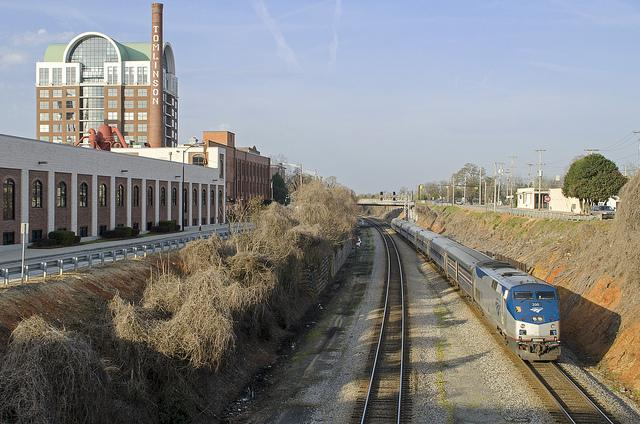Train: (389, 220, 562, 365)
